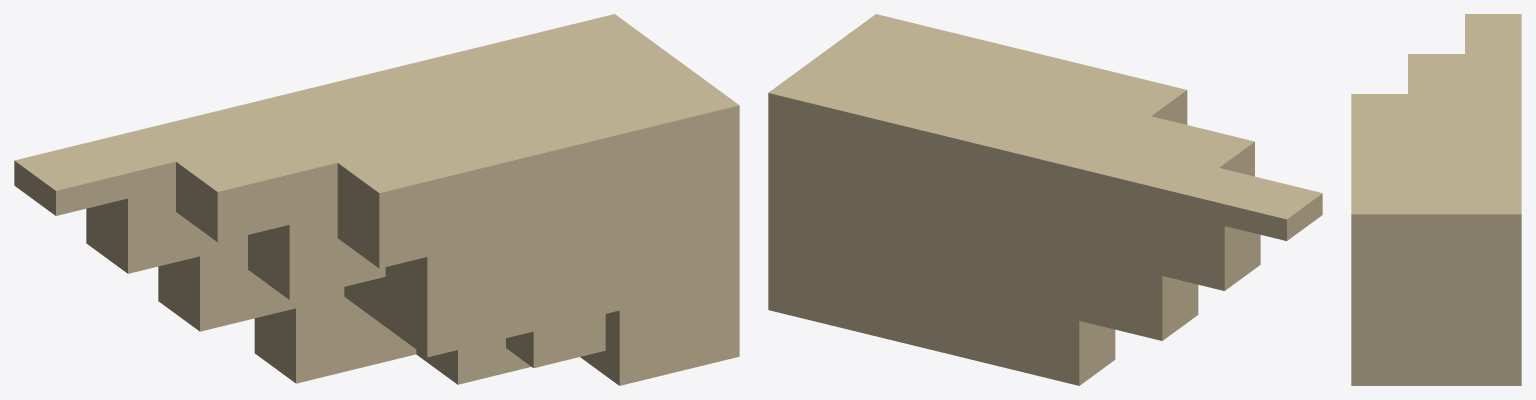
Rendered from joiner small.obj.
3 views of the same model, side by side, from view 1: azimuth 30°, elevation 25°; view 2: azimuth 150°, elevation 25°; view 3: azimuth 270°, elevation 25° (orthographic). The views are drawn at different scales.
Size of the model in its own units: 25 by 10 by 9.
Materials: 1 (1 with a texture image).
